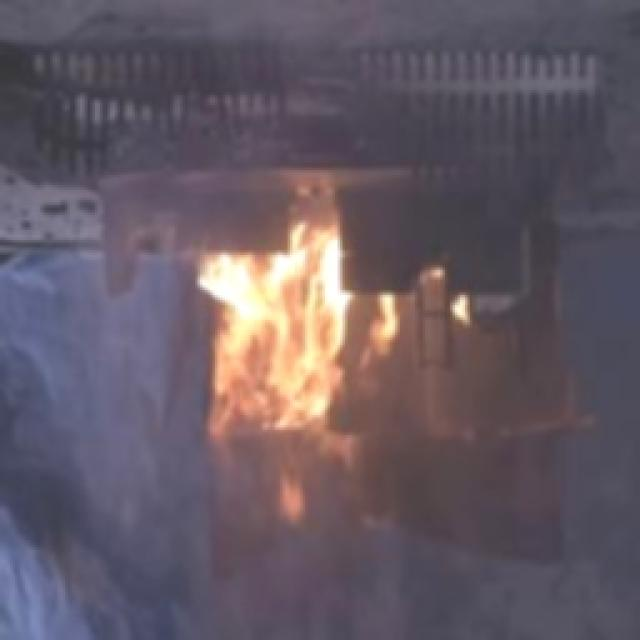fire: (180, 224, 398, 526)
